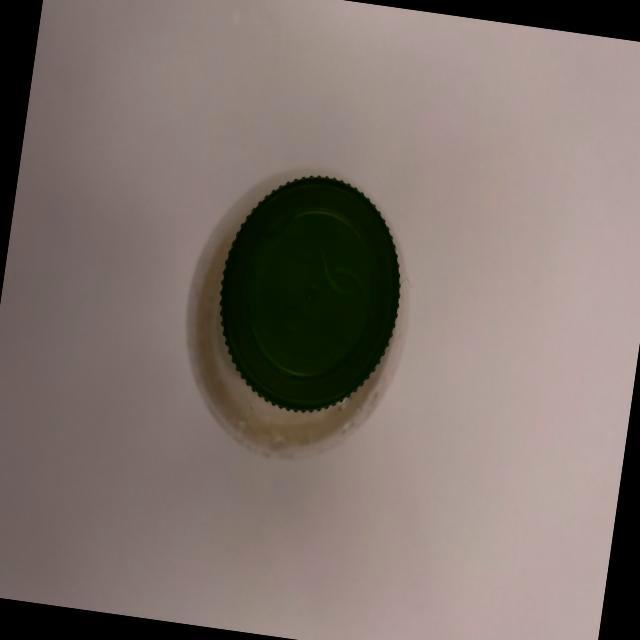plastic: (148, 140, 430, 482)
